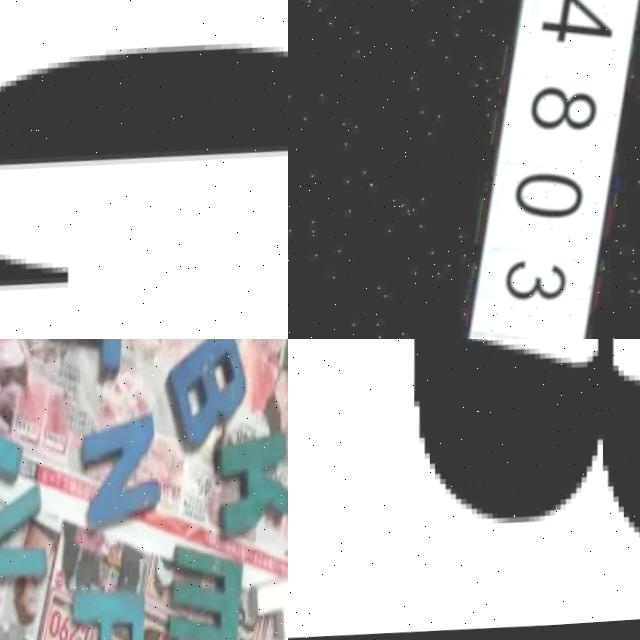0: (502, 157, 600, 235)
3: (492, 246, 582, 315)
4: (528, 0, 632, 62)
8: (518, 72, 614, 147)
B: (407, 339, 640, 544), (173, 339, 244, 452)
C: (0, 52, 288, 166)
H: (246, 569, 288, 640)
J: (0, 363, 23, 486)
K: (216, 438, 288, 539)
M: (156, 561, 239, 640)
N: (82, 418, 159, 535)
P: (71, 583, 145, 640)
T: (48, 339, 121, 390)
V: (0, 487, 47, 602)
